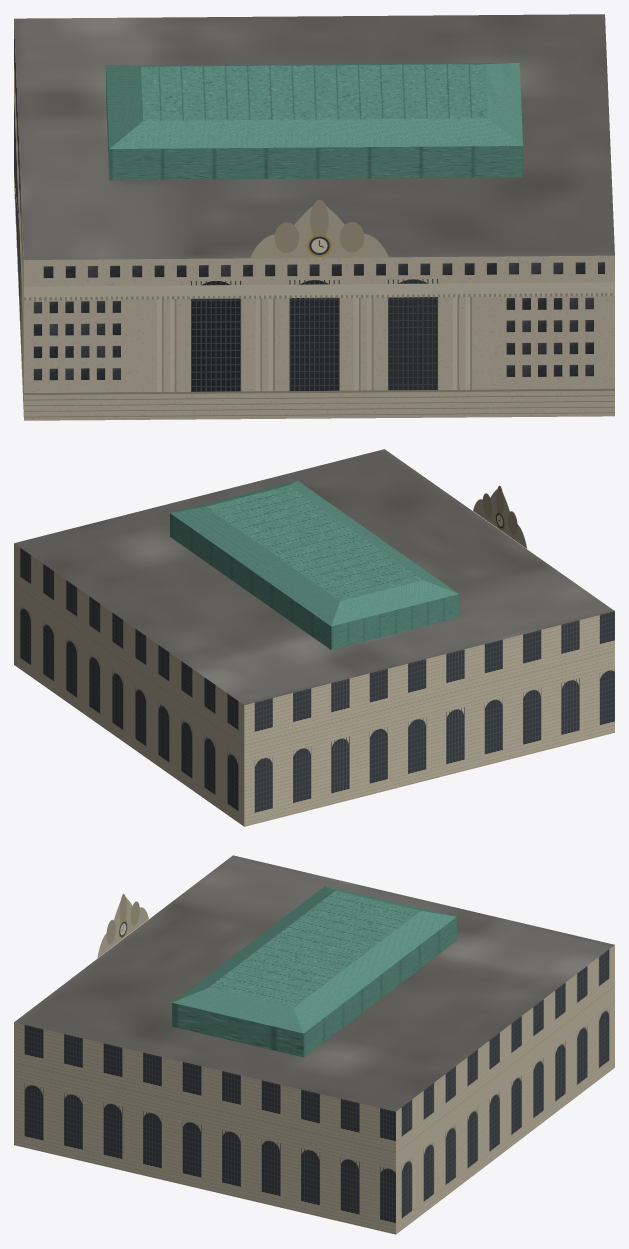
Rendered from gct.glb.
3 renders of one model, top to bottom at view 1: azimuth 30°, elevation 25°; view 2: azimuth 150°, elevation 25°; view 3: azimuth 270°, elevation 25°, orthographic. The views are drawn at different scales.
Visible parts, largest first — view 1: gct; view 2: gct; view 3: gct.
Part boxes in pixels (x1=…): gct: x1=14, y1=14, x2=614, y2=420; gct: x1=14, y1=449, x2=614, y2=826; gct: x1=14, y1=855, x2=614, y2=1234.
Bounding box in the file's own units: 161 × 50 × 160.
Materials: 10 (10 with a texture image).
